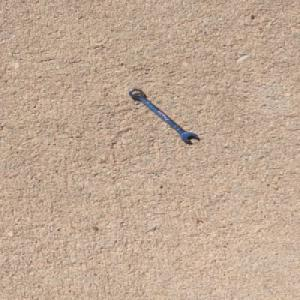Wrench: (126, 87, 201, 143)
